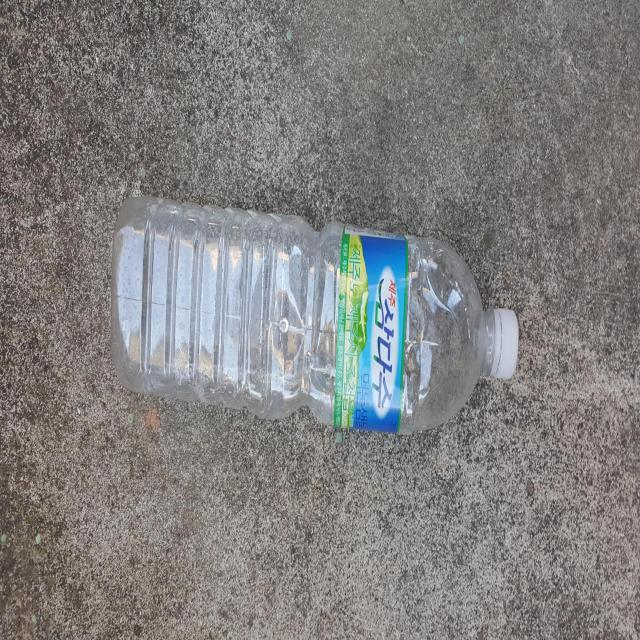plastic: (111, 196, 519, 433)
